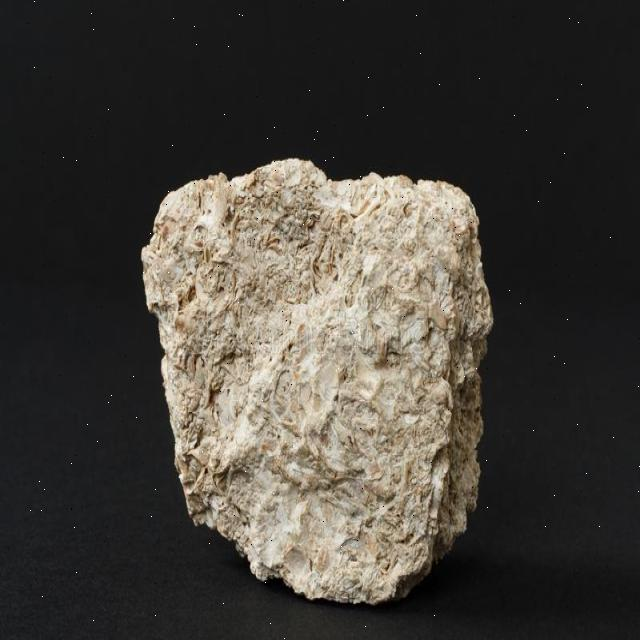Sedimentary: (132, 150, 494, 620)
